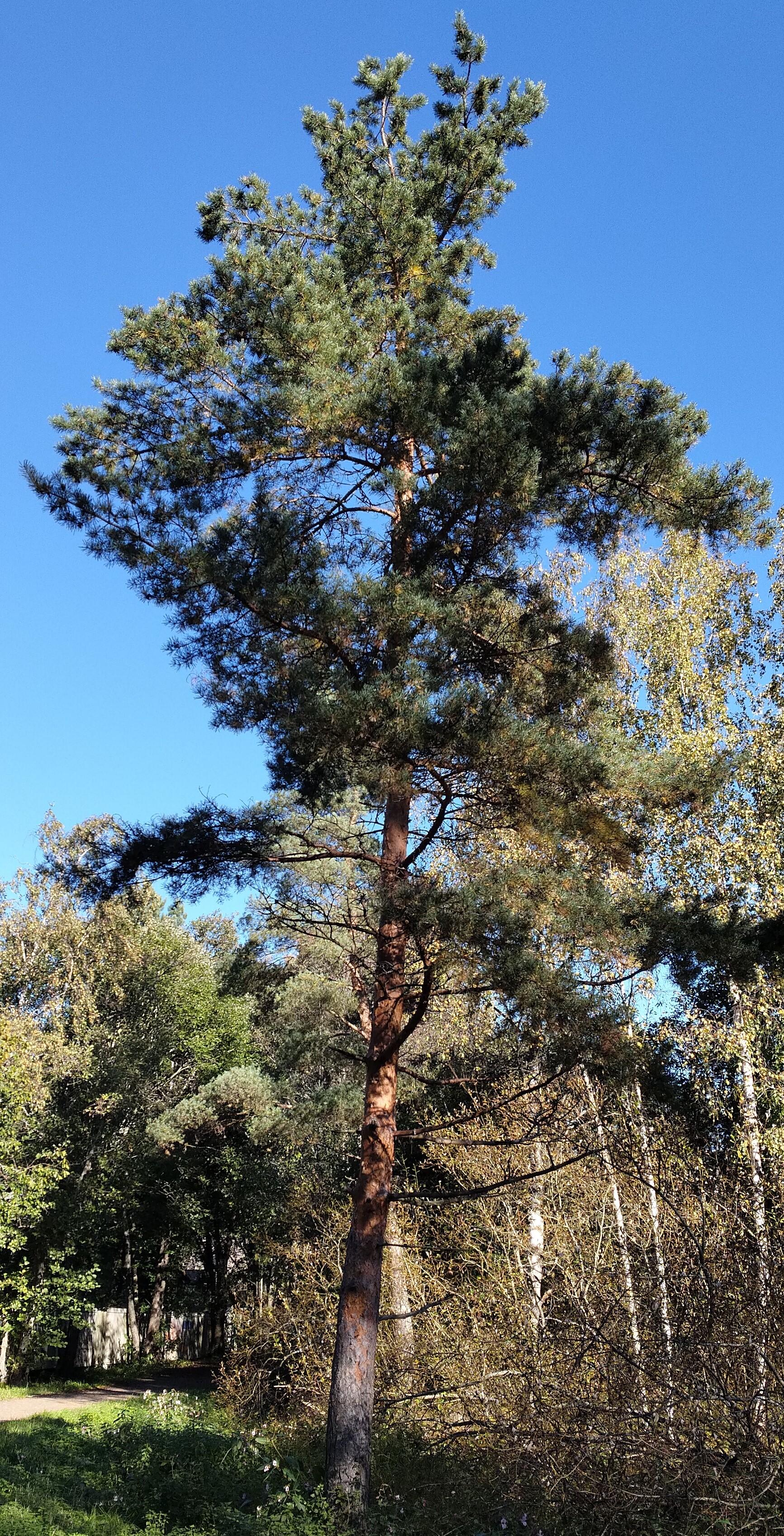Pine: (68, 9, 676, 1526)
